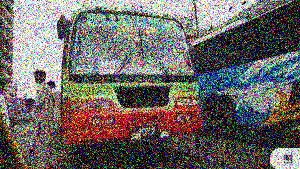bus: (58, 9, 200, 153), (192, 2, 298, 139)
